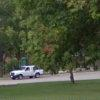Tree: (30, 4, 100, 100)
